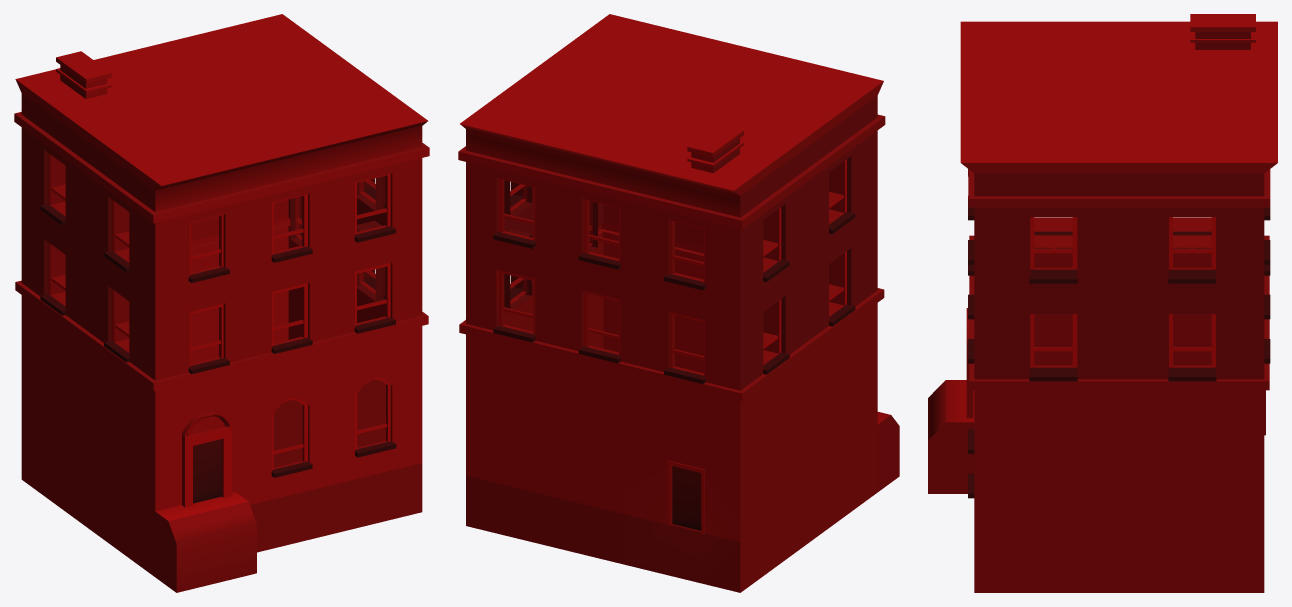
3 renders of one model, left to right at view 1: azimuth 30°, elevation 25°; view 2: azimuth 150°, elevation 25°; view 3: azimuth 270°, elevation 25°, orthographic. The views are drawn at different scales.
Parts seen in each view (by area): view 1: base.156; view 2: base.156; view 3: base.156.
Part boxes in pixels (bbox=[...]): base.156: bbox=[14, 14, 429, 592]; base.156: bbox=[458, 14, 899, 592]; base.156: bbox=[928, 14, 1277, 592].
Bounding box in the file's own units: 1112 × 1101 × 1590.
